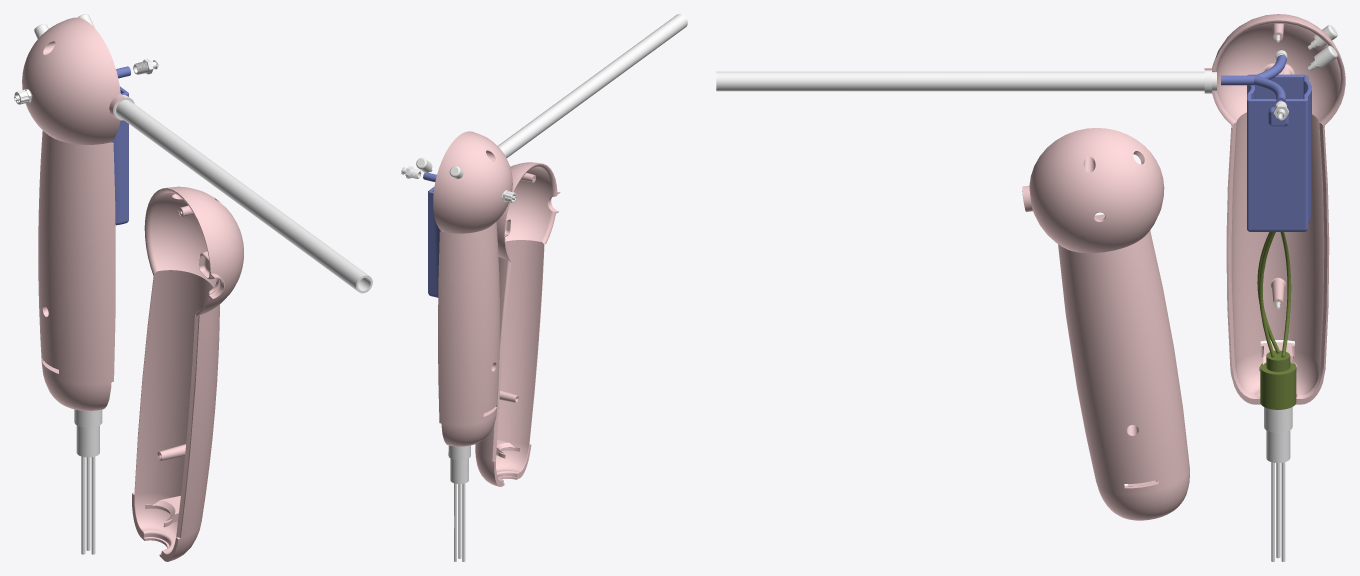
Rendered from cystoscope.gltf.
3 renders of one model, left to right at view 1: azimuth 30°, elevation 25°; view 2: azimuth 150°, elevation 25°; view 3: azimuth 270°, elevation 25°, orthographic. The views are drawn at different scales.
Visible parts, largest first — view 1: RIGHT BODY.001, Left BODY (1).001, Sheath.001, Body1.007, Widget.001; view 2: RIGHT BODY.001, Left BODY (1).001, Sheath.001, Body1.007, Widget.001; view 3: Left BODY (1).001, RIGHT BODY.001, Sheath.001, Widget.001, Body2, Body1.007, Tubes.001.
Boxes of the visible parts, <box> form: RIGHT BODY.001: <box>22,17,124,410</box>; Left BODY (1).001: <box>132,186,243,561</box>; Sheath.001: <box>114,95,372,293</box>; Body1.007: <box>74,409,102,554</box>; Widget.001: <box>111,86,128,225</box>; RIGHT BODY.001: <box>433,131,512,446</box>; Left BODY (1).001: <box>475,162,560,486</box>; Sheath.001: <box>498,14,687,157</box>; Body1.007: <box>448,445,470,561</box>; Widget.001: <box>428,186,440,297</box>; Left BODY (1).001: <box>1022,128,1189,520</box>; RIGHT BODY.001: <box>1204,14,1345,404</box>; Sheath.001: <box>716,70,1216,93</box>; Widget.001: <box>1247,74,1311,231</box>; Body2: <box>1257,232,1296,409</box>; Body1.007: <box>1264,407,1292,561</box>; Tubes.001: <box>1221,55,1286,102</box>.
Bounding box in the file's own units: 1.83 × 6.6 × 6.97.
